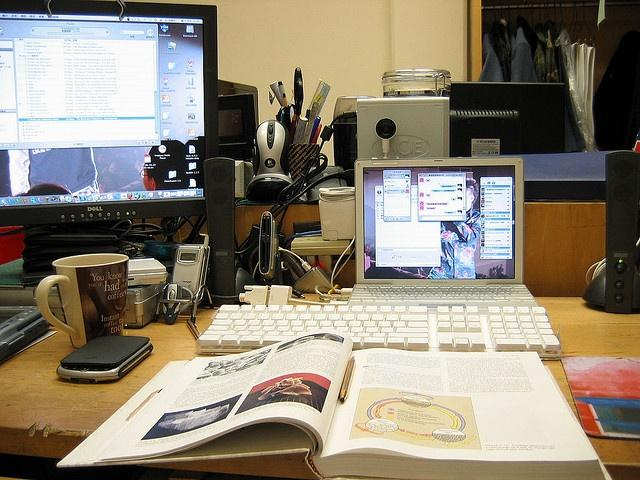AIO PC-Monitor-TV: (0, 0, 220, 225)
